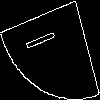I: (25, 25, 63, 53)
